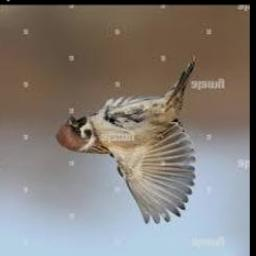Sparrow: (55, 55, 195, 224)
